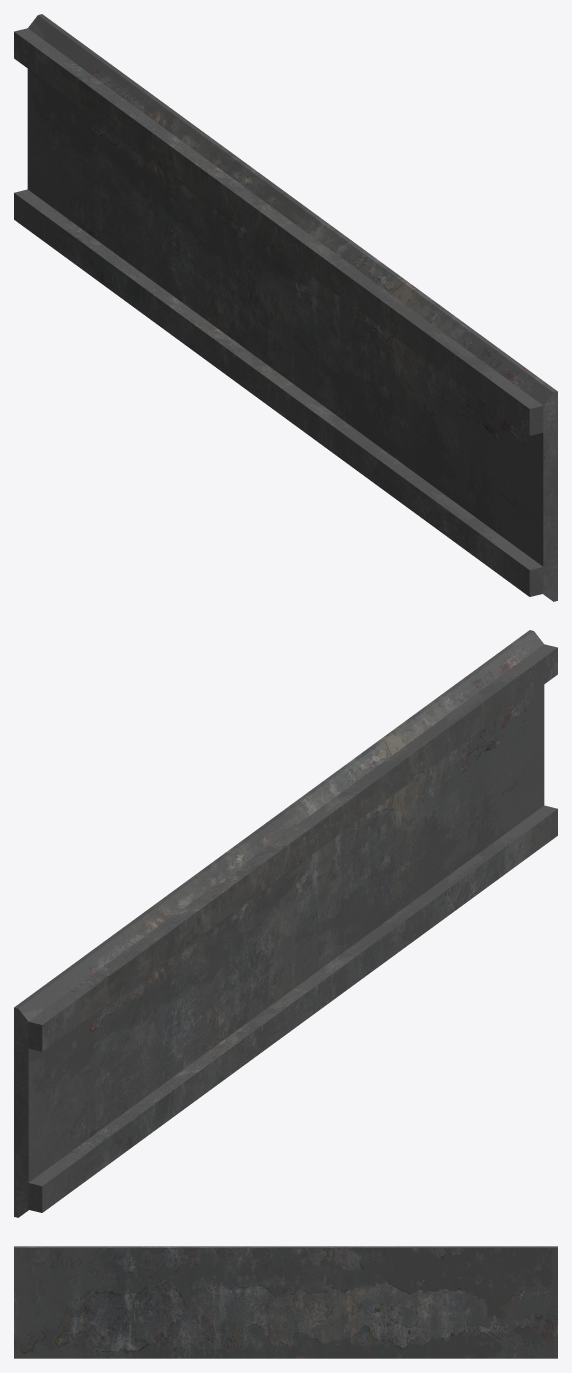
Rendered from Kit_Concrete.fbx.
The picture shows the model from 3 angles, top to bottom: view 1: azimuth 30°, elevation 25°; view 2: azimuth 150°, elevation 25°; view 3: azimuth 270°, elevation 25°; orthographic projection. The views are drawn at different scales.
Parts seen in each view (by area): view 1: Kit_Concrete; view 2: Kit_Concrete; view 3: Kit_Concrete.
Boxes of the visible parts, box(x1,y1,x2,y2) form: Kit_Concrete: box(14, 14, 557, 601); Kit_Concrete: box(14, 630, 557, 1217); Kit_Concrete: box(14, 1246, 557, 1358).
Size of the model in its own units: 4.99 by 35.26 by 157.
